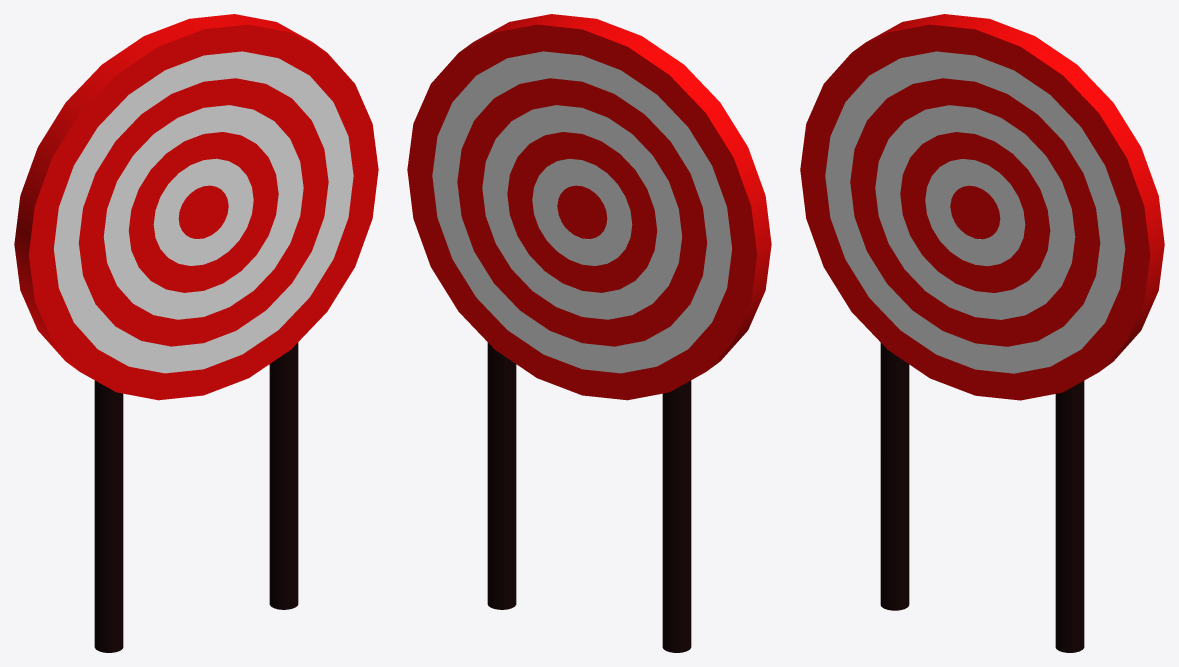
The model's file is Target.fbx.
The picture shows the model from 3 angles, left to right: view 1: azimuth 30°, elevation 25°; view 2: azimuth 150°, elevation 25°; view 3: azimuth 330°, elevation 25°; orthographic projection.
Parts seen in each view (by area): view 1: TargetRed; view 2: TargetRed; view 3: TargetRed.
Part boxes in pixels (<box>): TargetRed: <box>14,14,378,652</box>; TargetRed: <box>407,14,771,652</box>; TargetRed: <box>800,14,1164,652</box>.
Bounding box in the file's own units: 0.5717 × 0.9393 × 0.0408.
